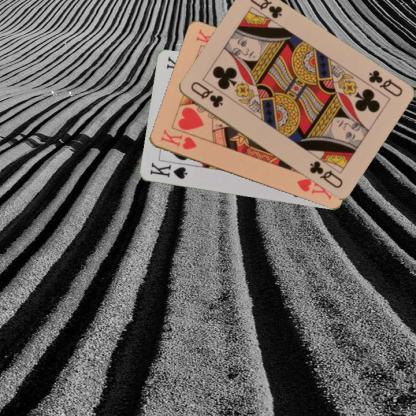Kh: (158, 126, 198, 152)
Ks: (147, 160, 189, 181)
Qc: (365, 67, 403, 98), (187, 79, 224, 109)
